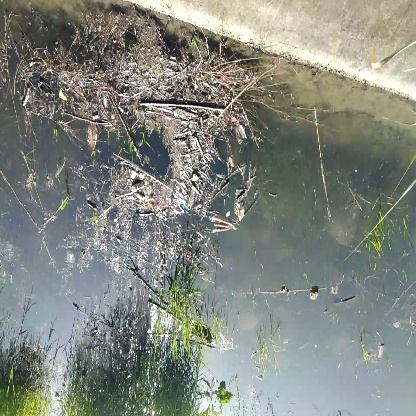branch: (135, 93, 230, 120)
